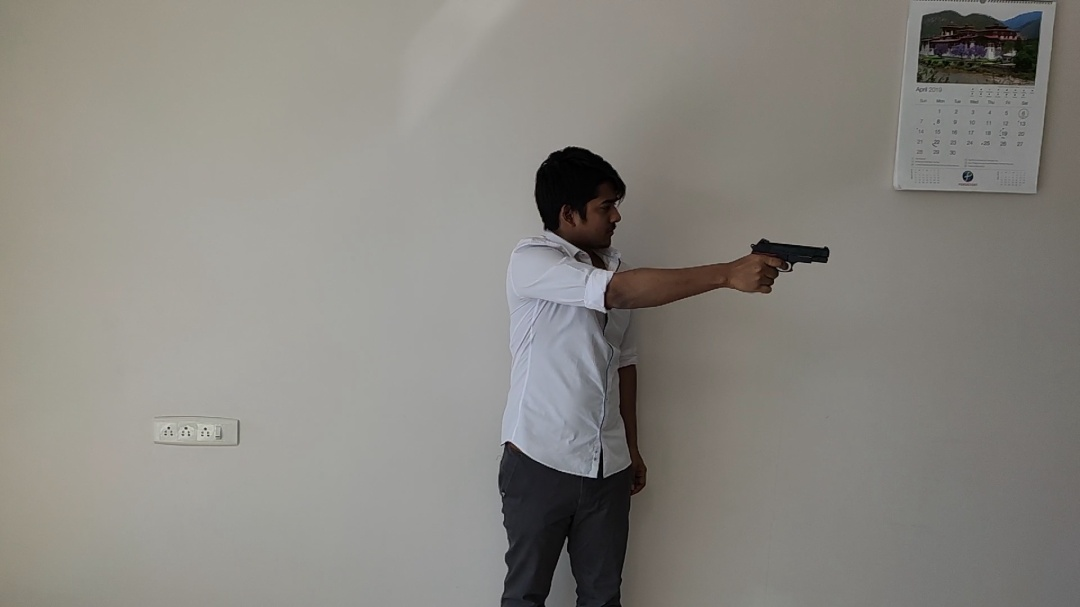gun: (750, 238, 830, 272)
